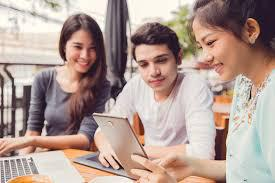Person: (185, 4, 275, 162), (115, 24, 200, 183), (38, 20, 104, 166)
